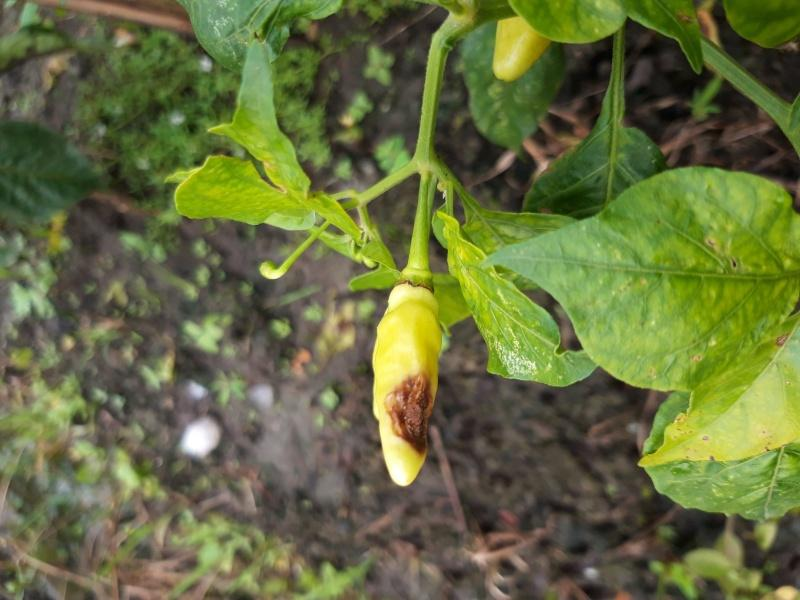antraknosa: (372, 279, 442, 486)
